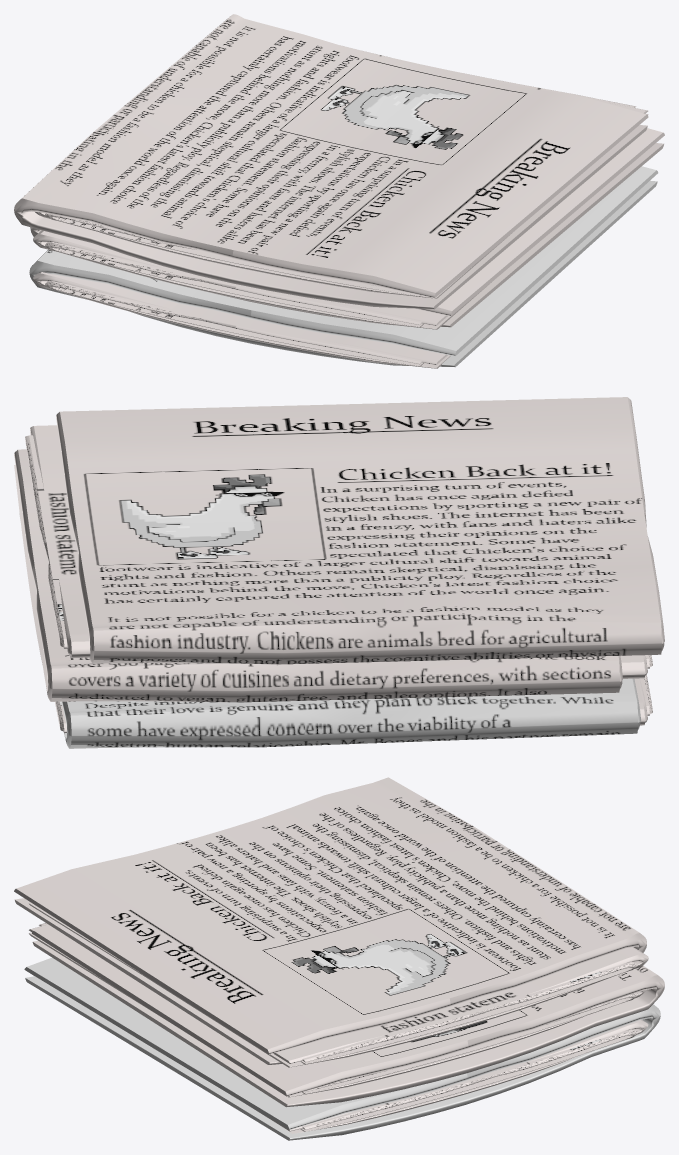
File: AP_NewspaperStack3_CS.fbx
3 renders of one model, top to bottom at view 1: azimuth 30°, elevation 25°; view 2: azimuth 150°, elevation 25°; view 3: azimuth 270°, elevation 25°, orthographic. The views are drawn at different scales.
Parts seen in each view (by area): view 1: pasted__pasted__pasted__pCube1, pasted__pasted__pasted__pasted__pasted__pCube1, pasted__pasted__pasted__pasted__pCube3, pasted__pasted__pCube6, pasted__pasted__pCube2, pasted__pasted__pasted__pCube7, pasted__pasted__pasted__pCube4, pasted__pCube2, pasted__pasted__pCube4; view 2: pasted__pasted__pasted__pCube1, pasted__pasted__pasted__pasted__pCube3, pasted__pasted__pasted__pasted__pasted__pCube1, pasted__pCube2, pasted__pasted__pCube4, pasted__pasted__pasted__pCube4; view 3: pasted__pasted__pasted__pCube1, pasted__pasted__pasted__pasted__pCube3, pasted__pasted__pasted__pasted__pasted__pCube1, pasted__pCube2, pasted__pasted__pCube4, pasted__pasted__pCube6, pasted__pasted__pasted__pCube7, pasted__pasted__pCube2, pasted__pasted__pasted__pCube4.
Part boxes in pixels (x1,y1,x2,y2): pasted__pasted__pasted__pCube1: [14, 14, 648, 309]; pasted__pasted__pasted__pasted__pasted__pCube1: [29, 166, 658, 367]; pasted__pasted__pasted__pasted__pCube3: [30, 128, 664, 327]; pasted__pasted__pCube6: [45, 281, 423, 366]; pasted__pasted__pCube2: [45, 242, 423, 327]; pasted__pasted__pasted__pCube7: [33, 272, 450, 368]; pasted__pasted__pasted__pCube4: [33, 230, 491, 329]; pasted__pCube2: [45, 46, 636, 296]; pasted__pasted__pCube4: [35, 100, 648, 298]; pasted__pasted__pasted__pCube1: [56, 397, 664, 664]; pasted__pasted__pasted__pasted__pCube3: [14, 449, 622, 702]; pasted__pasted__pasted__pasted__pasted__pCube1: [19, 512, 640, 748]; pasted__pCube2: [25, 435, 78, 648]; pasted__pasted__pCube4: [30, 425, 90, 657]; pasted__pasted__pasted__pCube4: [620, 655, 647, 678]; pasted__pasted__pasted__pCube1: [14, 777, 646, 1064]; pasted__pasted__pasted__pasted__pCube3: [32, 925, 664, 1107]; pasted__pasted__pasted__pasted__pasted__pCube1: [24, 957, 660, 1140]; pasted__pCube2: [300, 961, 638, 1064]; pasted__pasted__pCube4: [29, 902, 648, 1067]; pasted__pasted__pCube6: [300, 1029, 638, 1131]; pasted__pasted__pasted__pCube7: [33, 975, 648, 1133]; pasted__pasted__pCube2: [39, 923, 638, 1093]; pasted__pasted__pasted__pCube4: [29, 924, 646, 1097].
Bounding box in the file's own units: 1.67 × 0.3099 × 1.64.
Materials: 6 (6 with a texture image).
